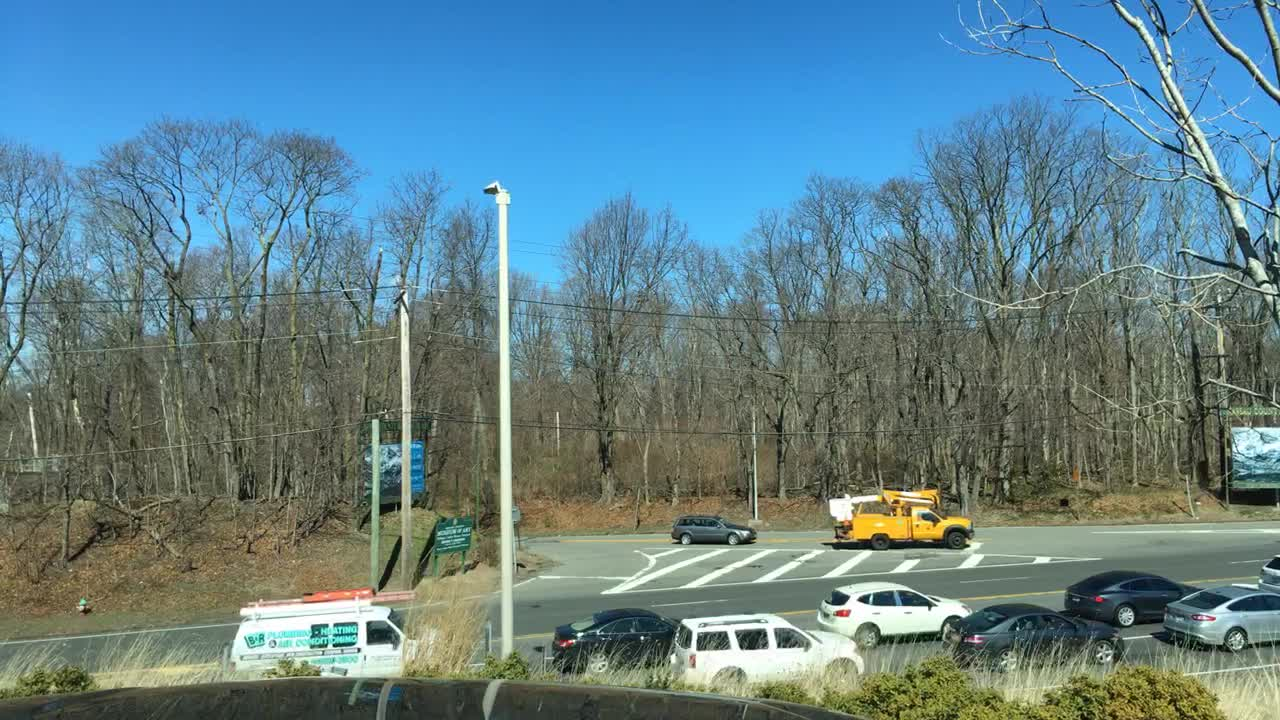car: (220, 586, 435, 685), (676, 613, 867, 701), (942, 601, 1124, 670), (818, 578, 975, 651), (1063, 568, 1212, 631), (550, 606, 682, 676), (1159, 585, 1278, 651), (670, 512, 753, 546), (1258, 551, 1278, 596)
traffic sign: (438, 519, 471, 550)
truck: (823, 487, 974, 550)
